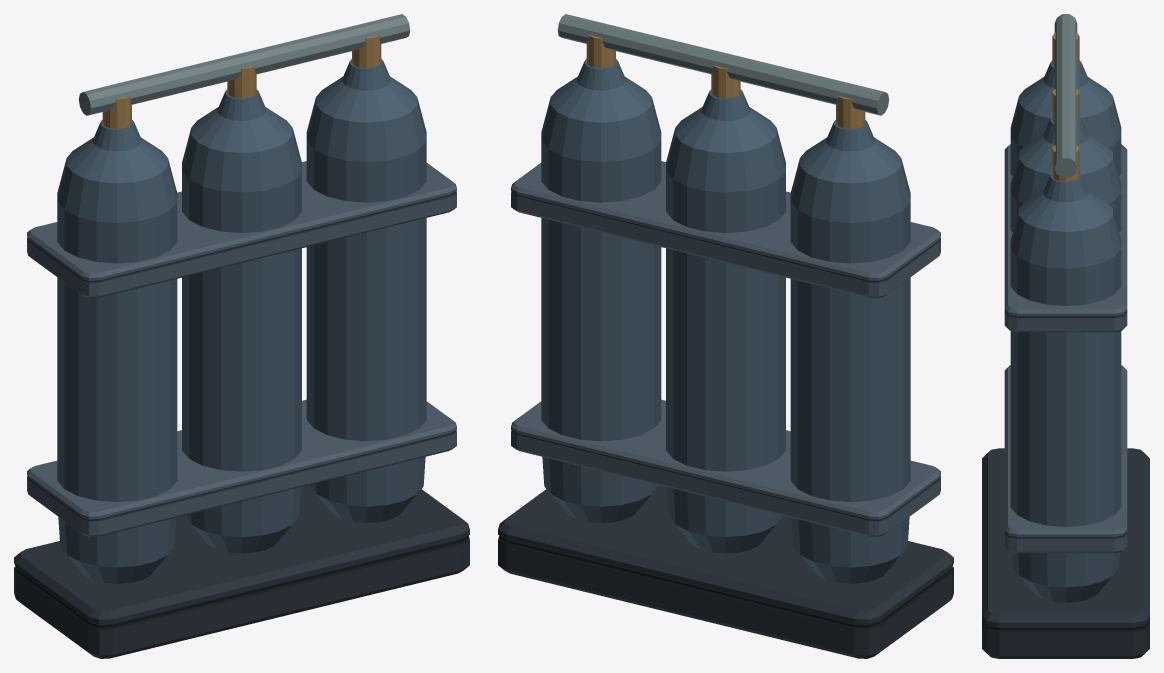
File: E-05_accumulators.glb
The picture shows the model from 3 angles, left to right: view 1: azimuth 30°, elevation 25°; view 2: azimuth 150°, elevation 25°; view 3: azimuth 270°, elevation 25°; orthographic projection. The views are drawn at different scales.
Parts seen in each view (by area): view 1: E-05_accumulators; view 2: E-05_accumulators; view 3: E-05_accumulators.
Part boxes in pixels (x1=…): E-05_accumulators: x1=14, y1=14, x2=469, y2=658; E-05_accumulators: x1=498, y1=14, x2=953, y2=658; E-05_accumulators: x1=982, y1=14, x2=1149, y2=658.
Size of the model in its own units: 0.75 by 1 by 0.31.
